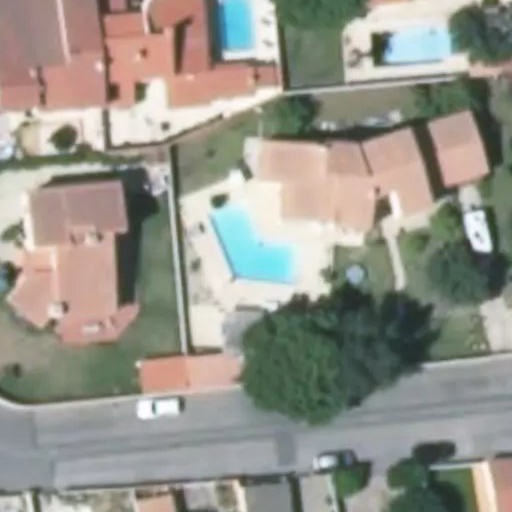pool: (209, 213, 316, 278)
